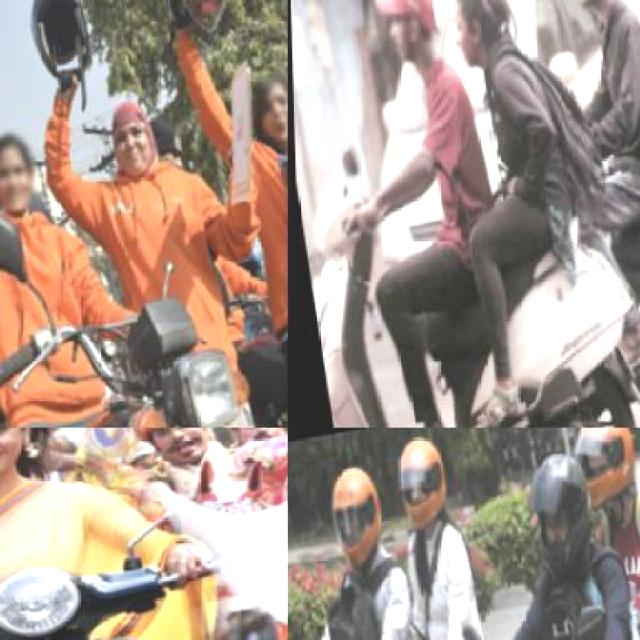With Helmet: (514, 442, 601, 586), (318, 454, 394, 589), (392, 430, 454, 533), (566, 428, 639, 515)
Without Helmet: (100, 97, 163, 192), (366, 0, 442, 74), (444, 0, 509, 72), (0, 428, 58, 497), (0, 124, 42, 218), (251, 74, 286, 144)
